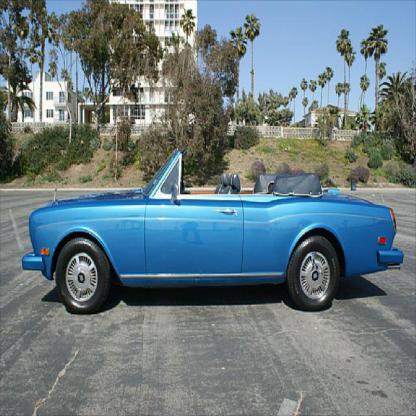Car: (21, 147, 404, 315)
